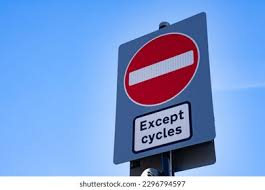No entry: (123, 33, 201, 106)
